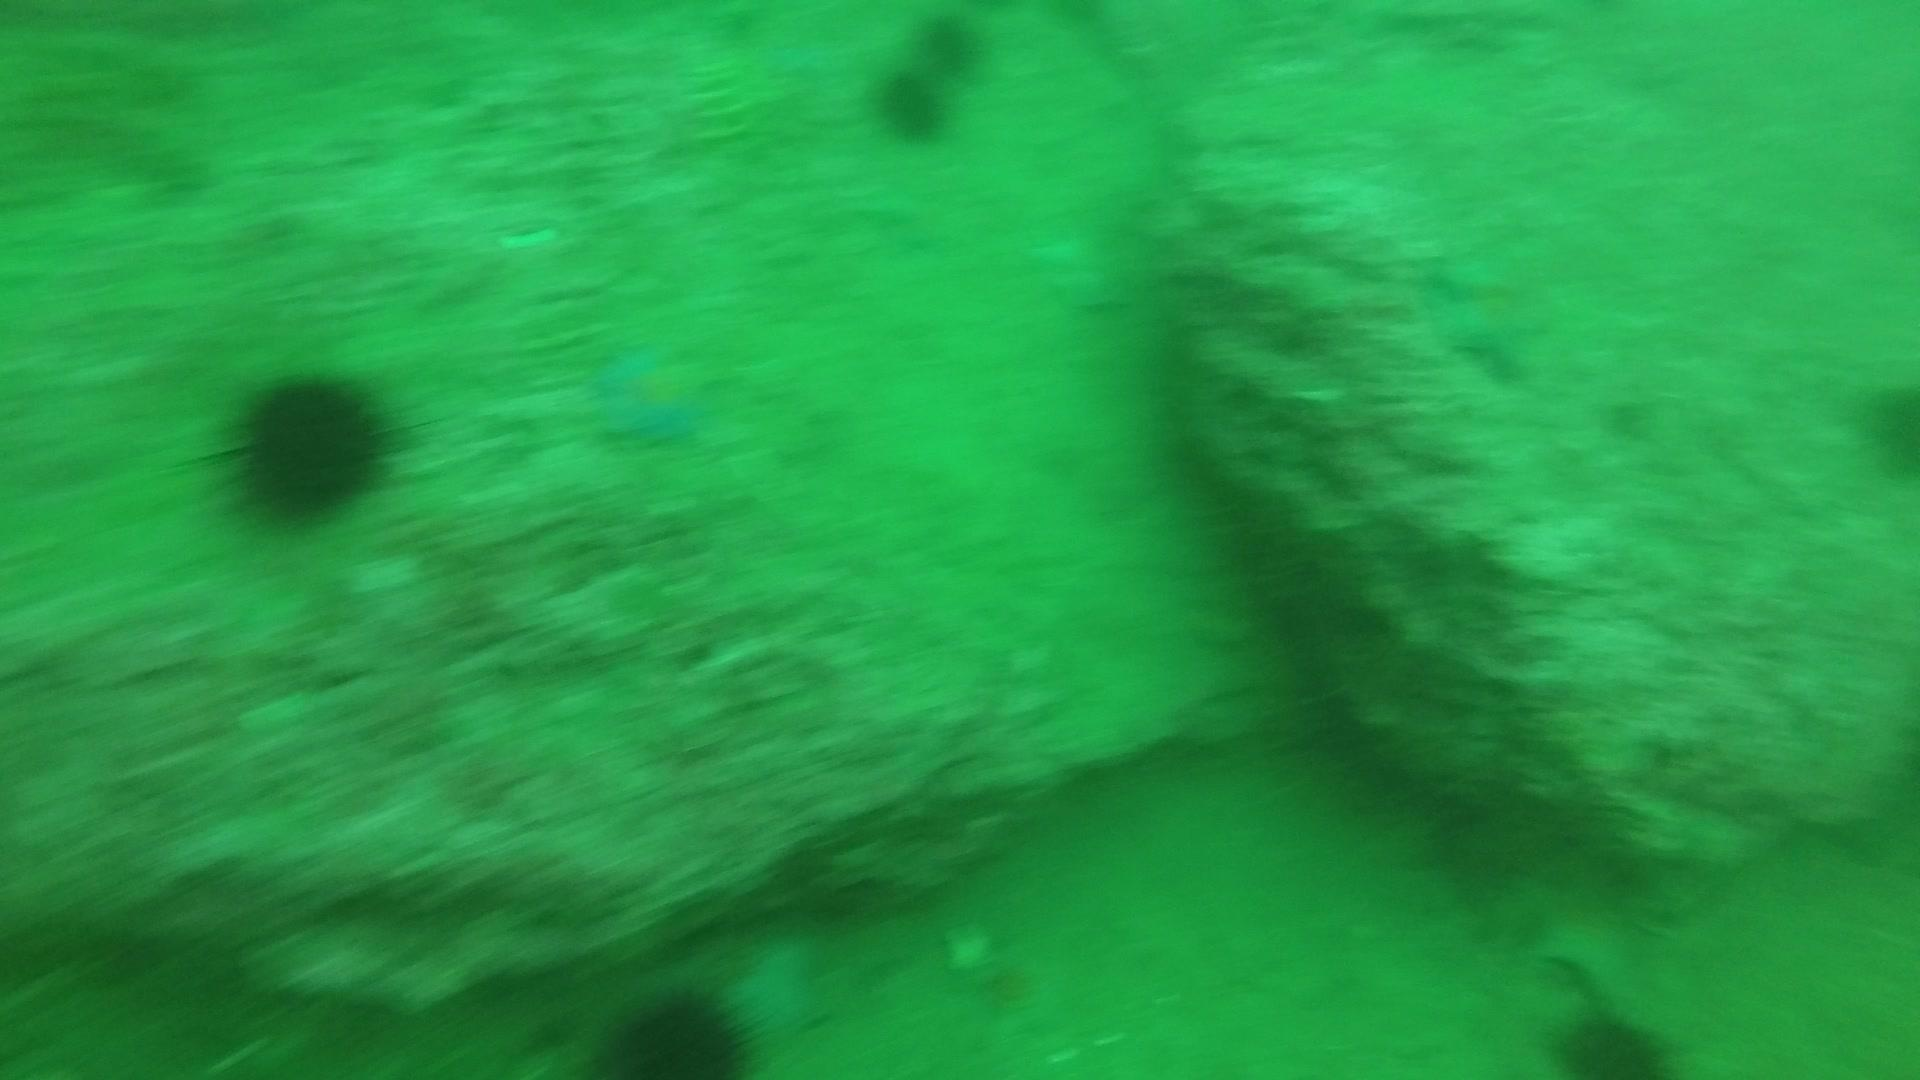echinus: (214, 363, 407, 527), (589, 980, 764, 1077), (1545, 1002, 1677, 1076), (866, 61, 959, 149), (1851, 371, 1920, 483), (902, 7, 996, 84)
starfish: (1419, 243, 1553, 382), (585, 338, 719, 452)
